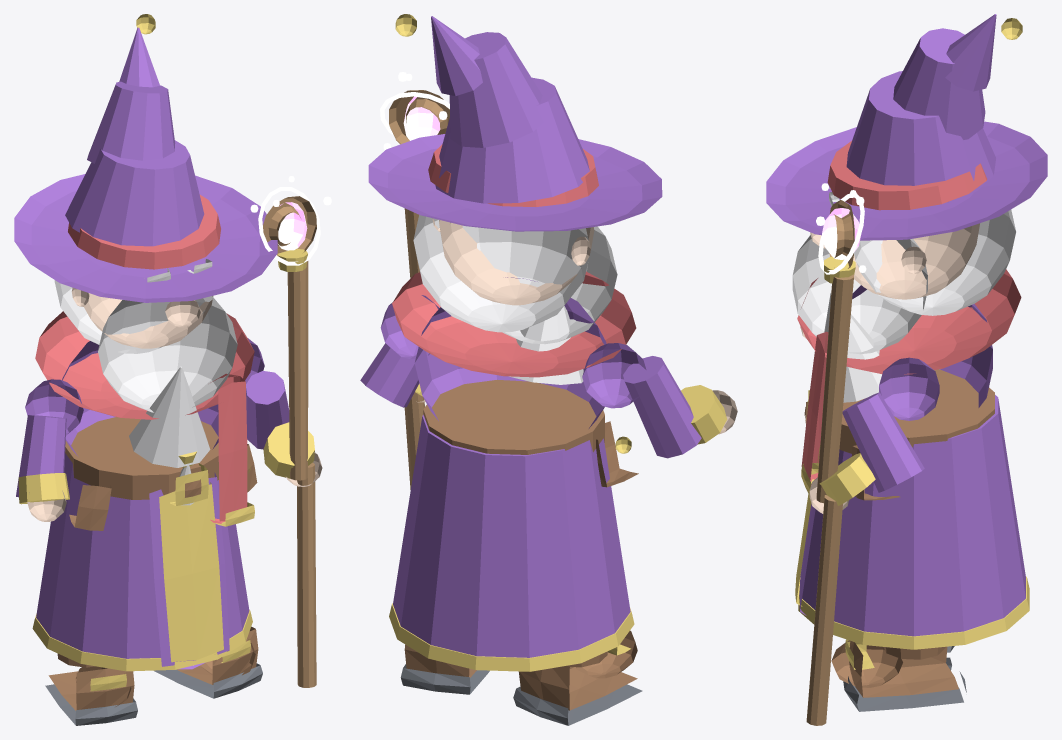
The model's file is hechicero.glb.
3 views of the same model, side by side, from view 1: azimuth 30°, elevation 25°; view 2: azimuth 150°, elevation 25°; view 3: azimuth 270°, elevation 25° (orthographic). The views are drawn at different scales.
Visible parts, largest first — view 1: Hechicero; view 2: Hechicero; view 3: Hechicero.
Part boxes in pixels (x1=…): Hechicero: x1=14, y1=14, x2=331, y2=725; Hechicero: x1=360, y1=14, x2=737, y2=725; Hechicero: x1=766, y1=14, x2=1047, y2=725.
Size of the model in its own units: 0.8063 by 1.59 by 0.6029.
